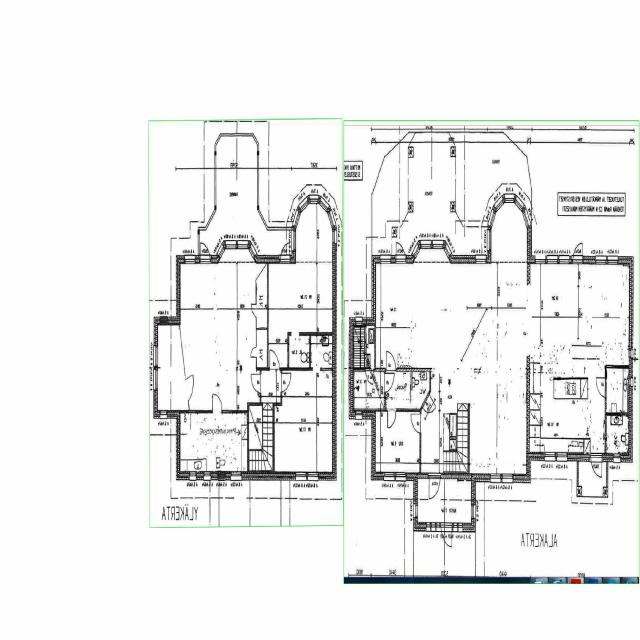door: (422, 392, 436, 422), (591, 453, 602, 484), (441, 523, 452, 553), (429, 473, 440, 500), (396, 237, 406, 264), (186, 376, 198, 398), (280, 238, 290, 264), (201, 236, 210, 263), (595, 378, 607, 398), (386, 349, 396, 372), (280, 373, 292, 392), (574, 237, 582, 264), (384, 373, 395, 392), (270, 348, 279, 371), (212, 392, 222, 412), (410, 414, 421, 432), (596, 422, 606, 440), (251, 374, 261, 392), (387, 409, 396, 428), (366, 368, 373, 386), (313, 368, 320, 384), (292, 318, 298, 335), (250, 304, 257, 316), (250, 348, 256, 358)
